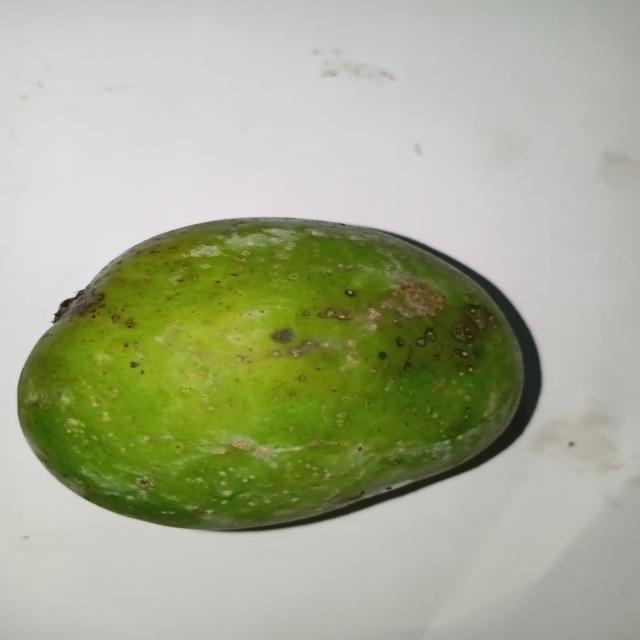rotten_mango: (14, 217, 521, 531)
